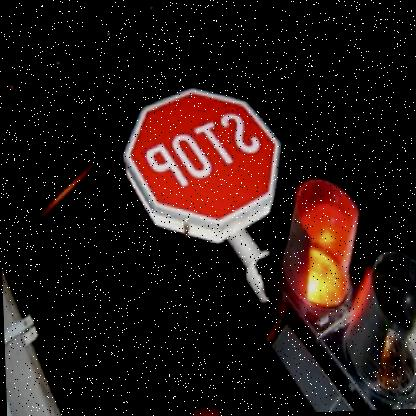stop: (122, 80, 286, 240)
